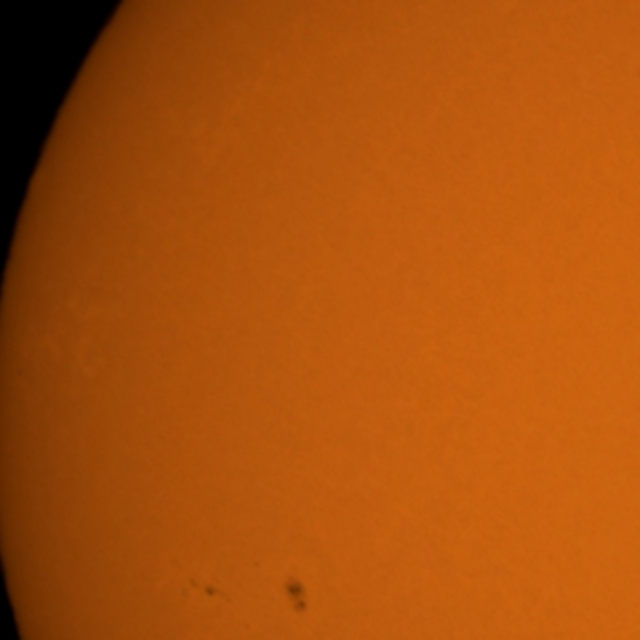sunspot: (282, 575, 310, 617), (180, 576, 220, 602)
